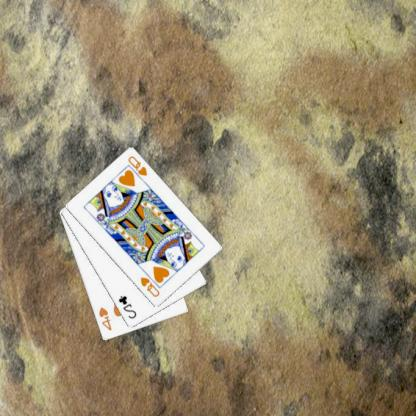2C: (117, 293, 140, 320)
4H: (97, 304, 114, 332)
QH: (126, 153, 150, 184), (139, 274, 163, 299)
